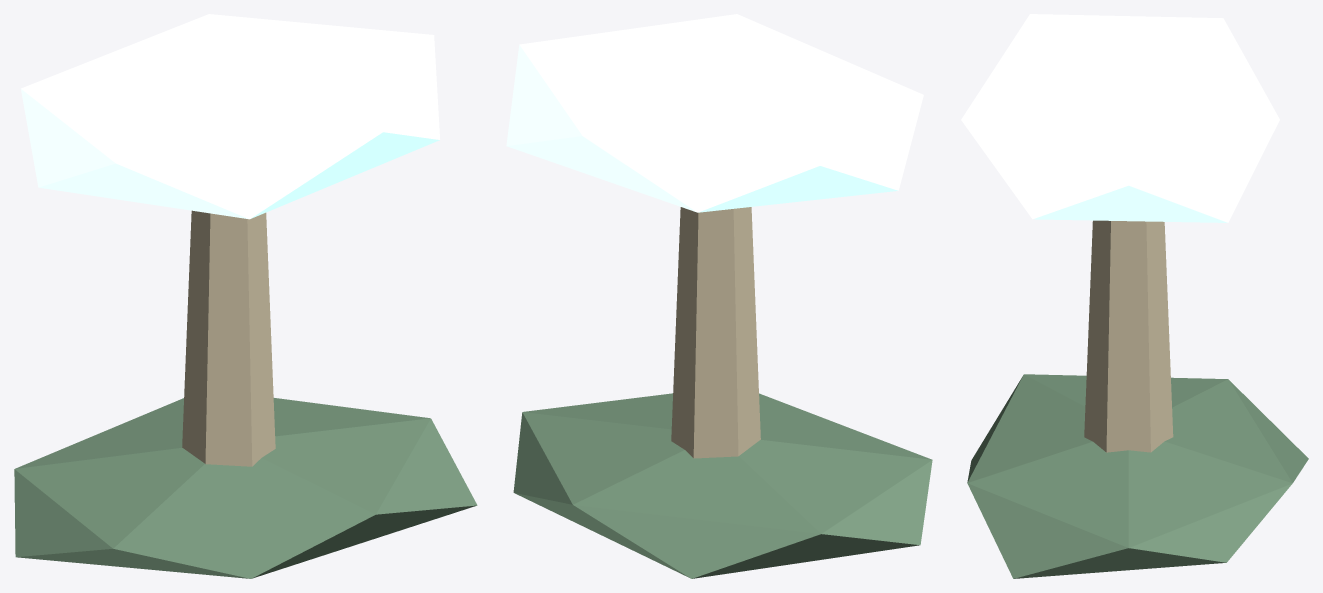
File: glow_mushroom_02.glb
3 renders of one model, left to right at view 1: azimuth 30°, elevation 25°; view 2: azimuth 150°, elevation 25°; view 3: azimuth 270°, elevation 25°, orthographic. The views are drawn at different scales.
Visible parts, largest first — view 1: glow_mushroom_02; view 2: glow_mushroom_02; view 3: glow_mushroom_02.
Part boxes in pixels (x1=…): glow_mushroom_02: x1=14, y1=14, x2=477, y2=578; glow_mushroom_02: x1=506, y1=14, x2=932, y2=578; glow_mushroom_02: x1=961, y1=14, x2=1308, y2=578.
Size of the model in its own units: 0.4478 by 0.4972 by 0.3388.
